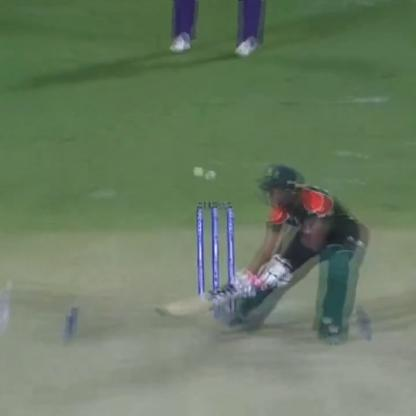ball: (183, 162, 205, 178), (206, 168, 219, 184)
bat: (154, 284, 270, 325)
pitch: (4, 282, 416, 416)
